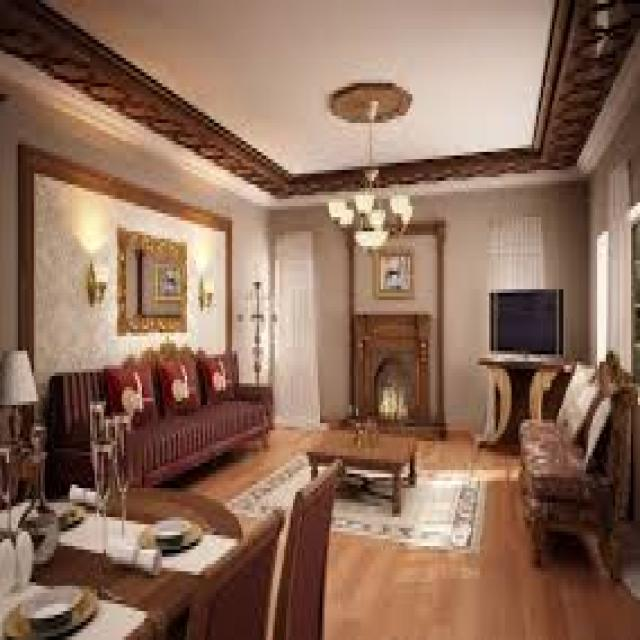Sofa: (47, 338, 271, 483), (515, 364, 637, 573)
Table: (302, 408, 420, 522)
tv: (486, 282, 572, 362)
